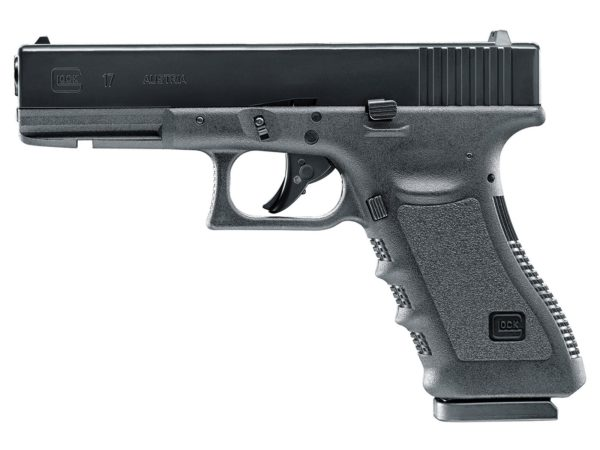Arma Real: (15, 29, 589, 423)
